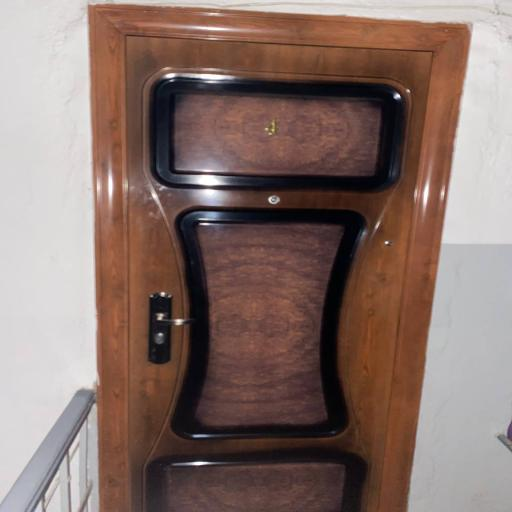corridor: (92, 8, 467, 511)
